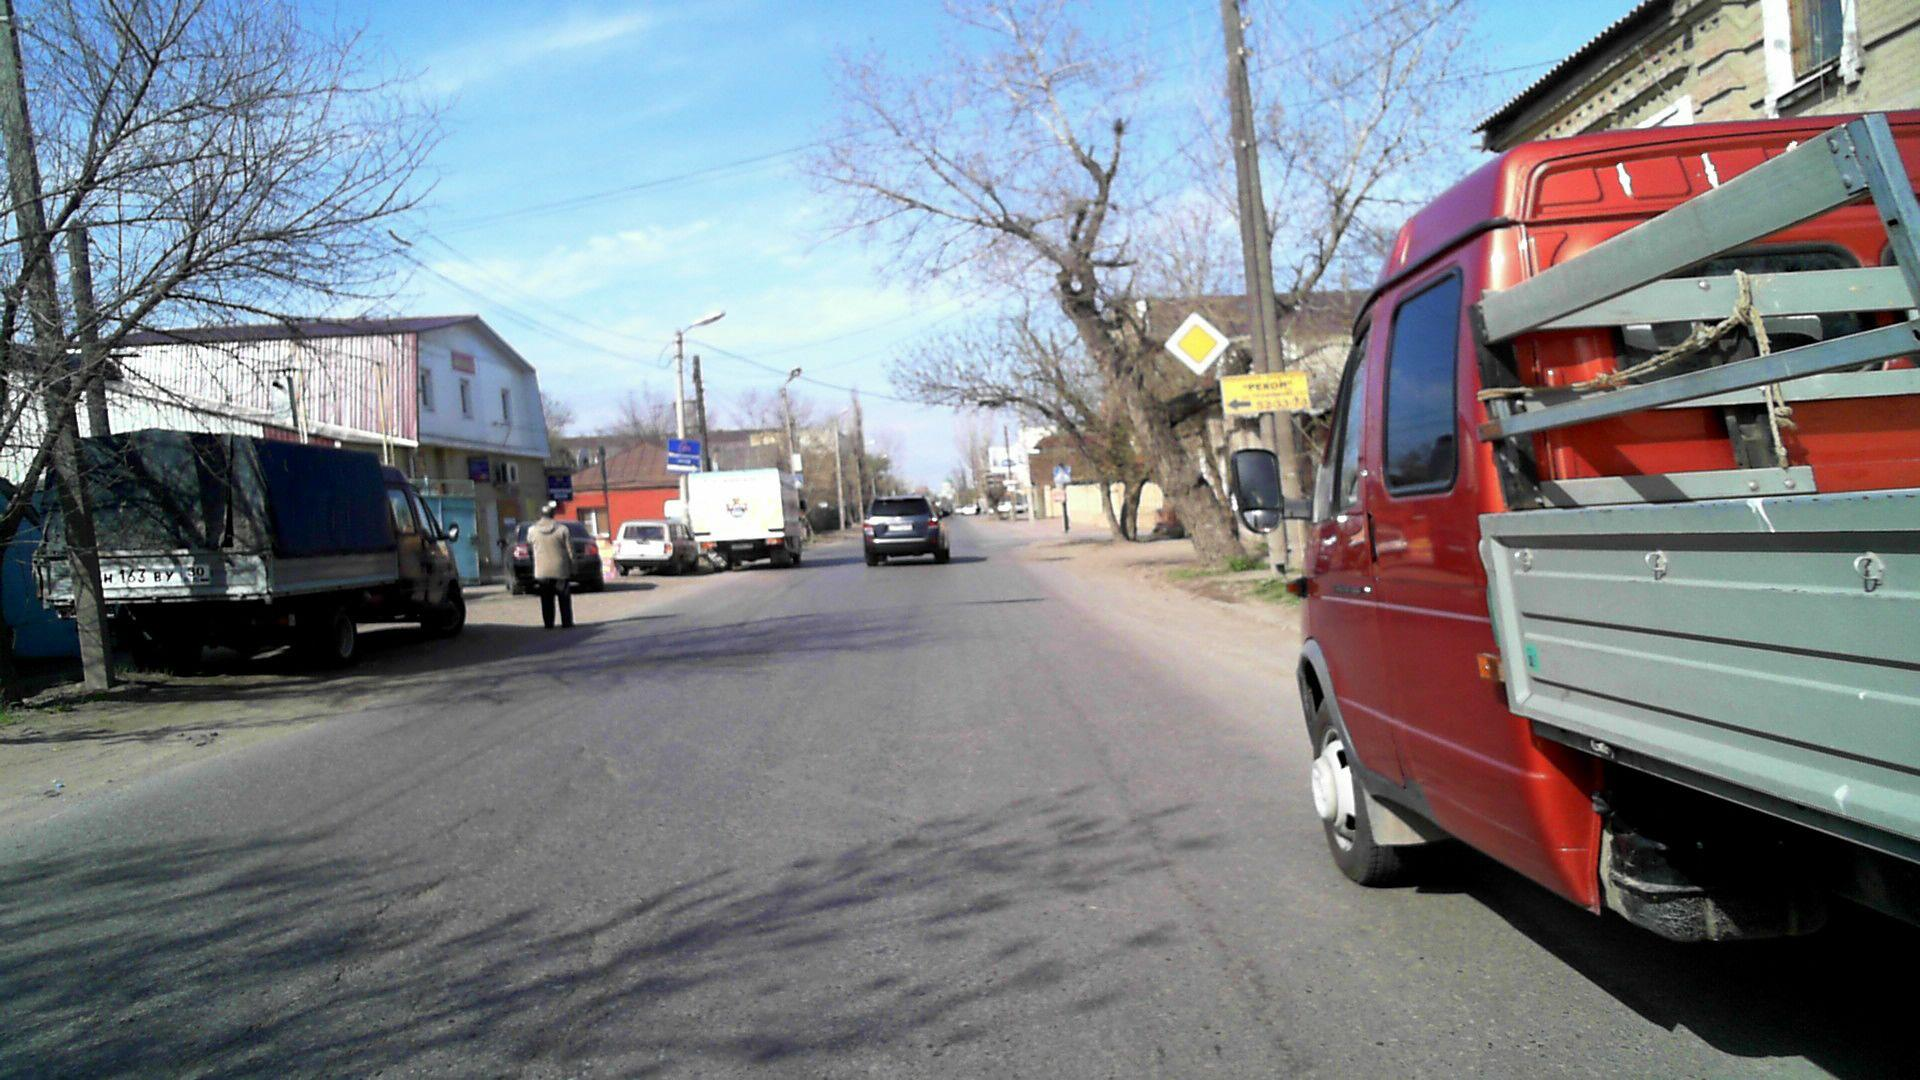2_1: (1159, 310, 1232, 376)
5_19_1: (1050, 464, 1073, 485), (791, 472, 806, 488)
5_7_1: (667, 455, 702, 472)
